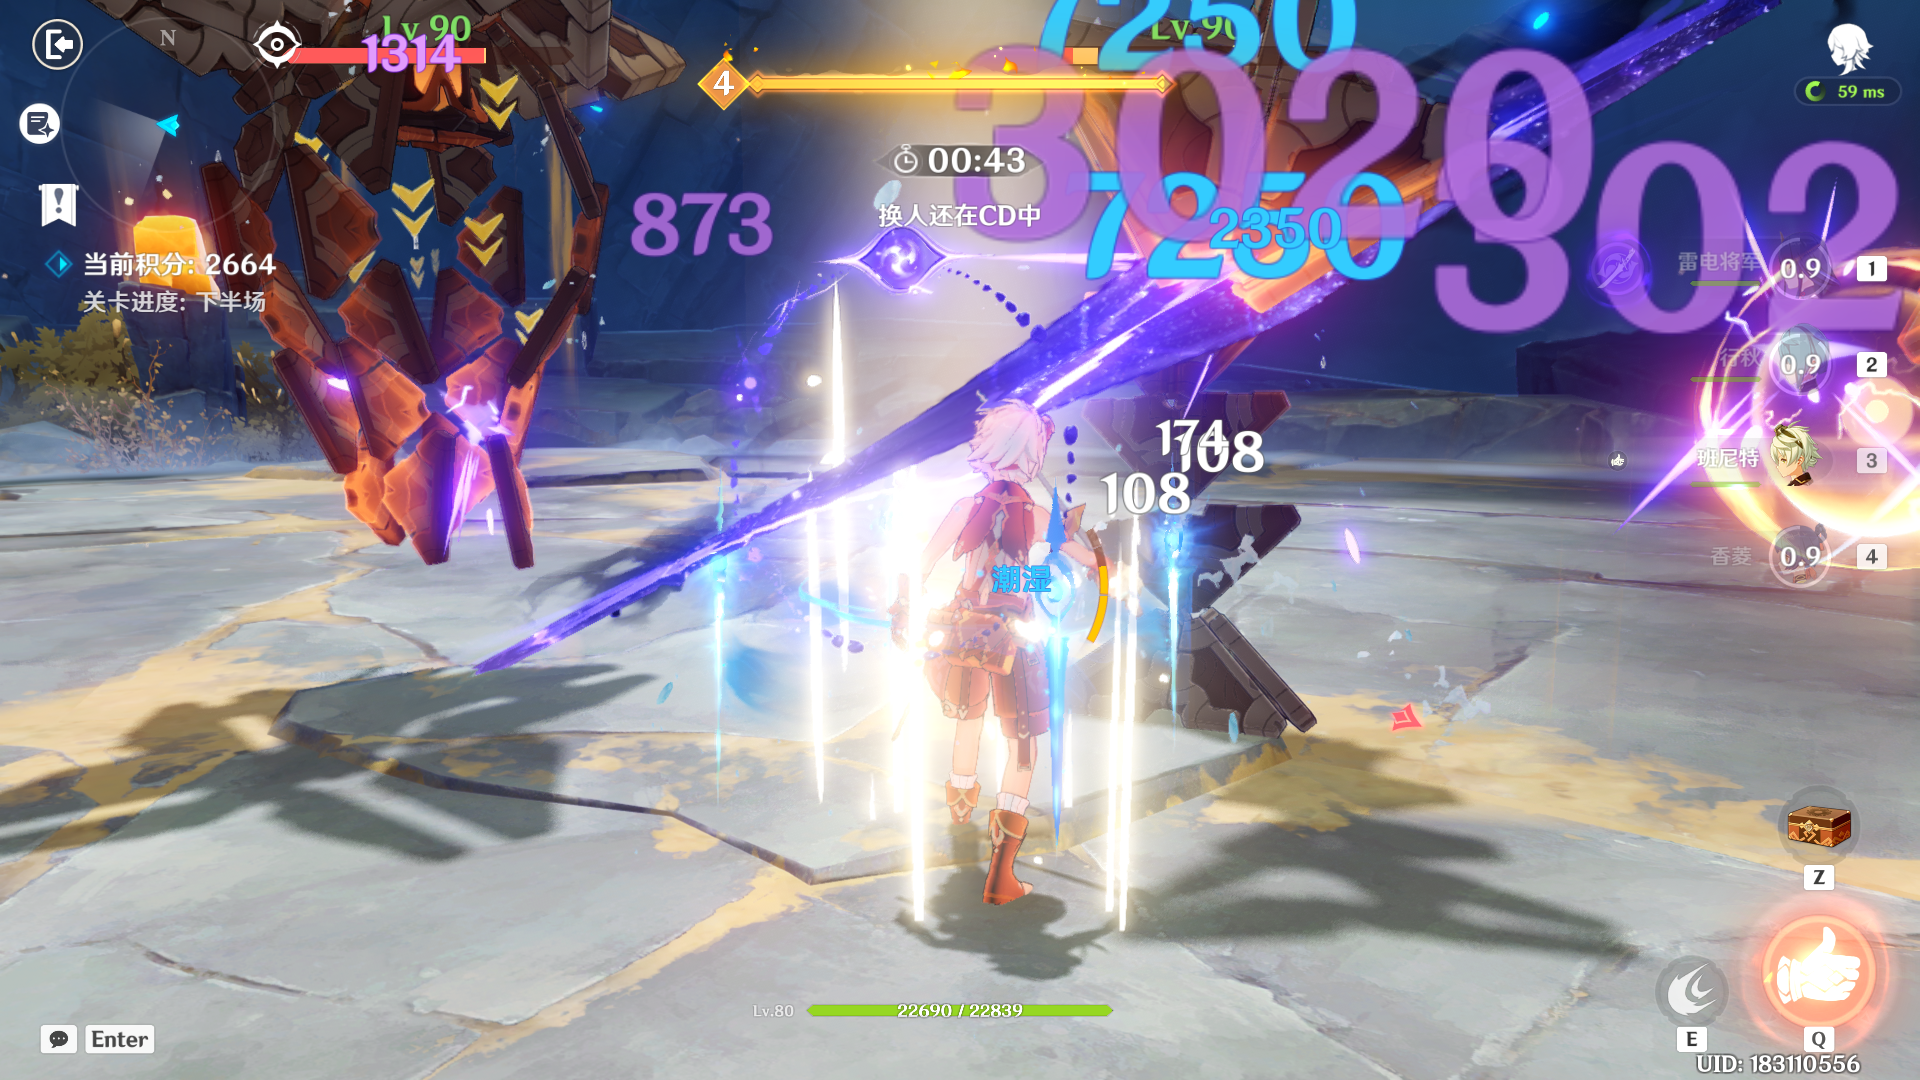character: (862, 396, 1129, 960)
